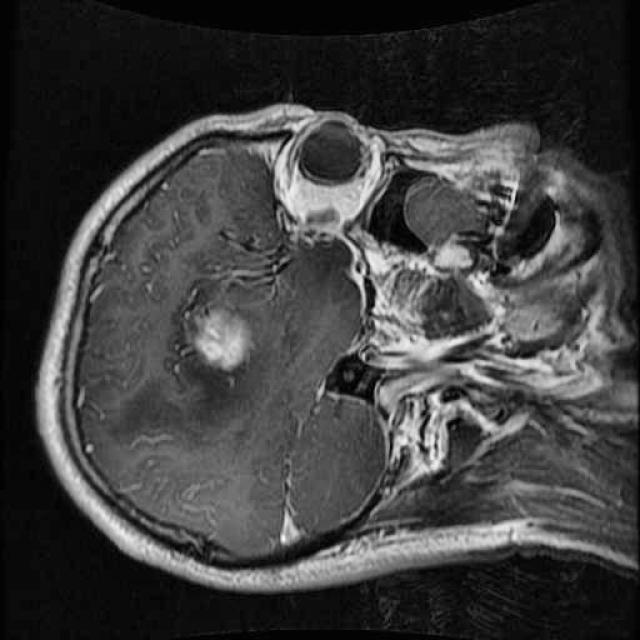Non-Tumor: (180, 276, 262, 388)
